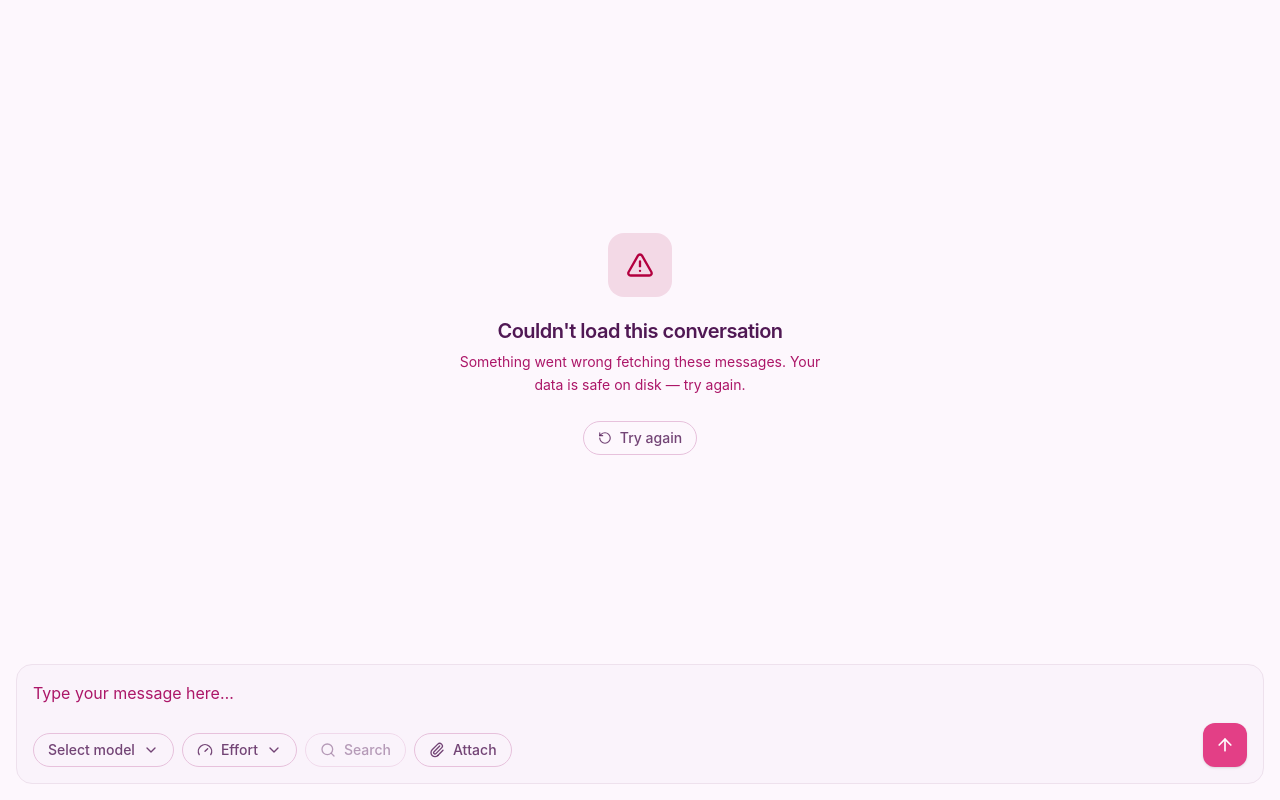
Test: ChatColumn › shows a recoverable error (not an eternal skeleton) when hydration fails, and recovers on retry
The width and height of the screenshot is (1280, 800).
Expected: the message shows "Couldn't load this conversation", [497,319,783,343]
Click the button "Try again" at (640, 438), box [583,421,697,455]
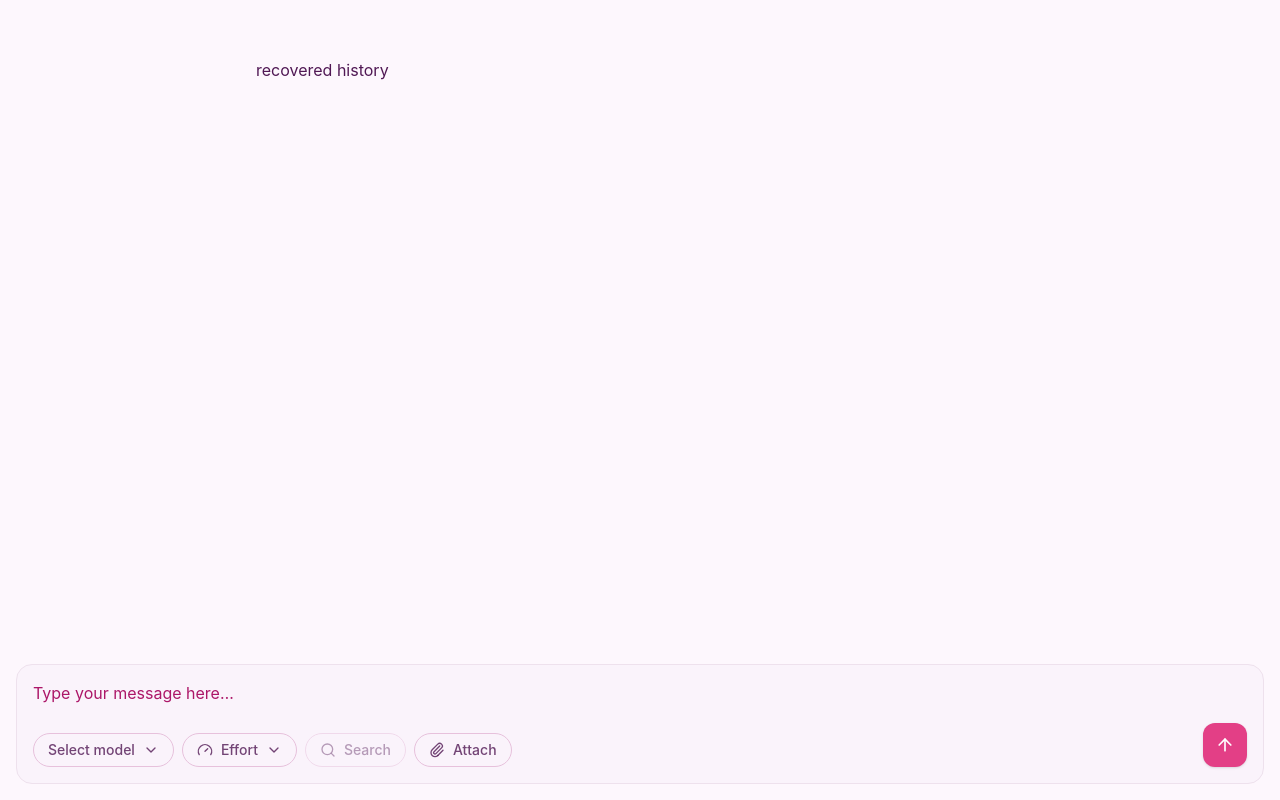
Result: the text "recovered history" is shown at [256,56,389,84]
Result: the heading "Couldn't load this conversation" is gone
